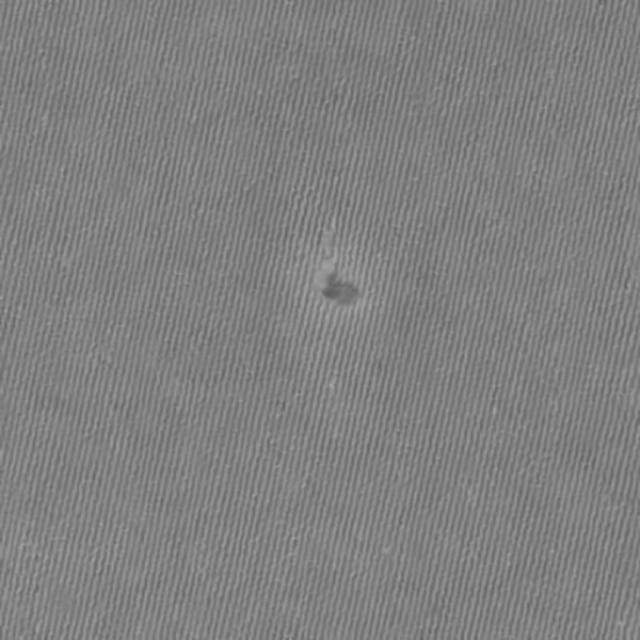other: (270, 233, 450, 345)
